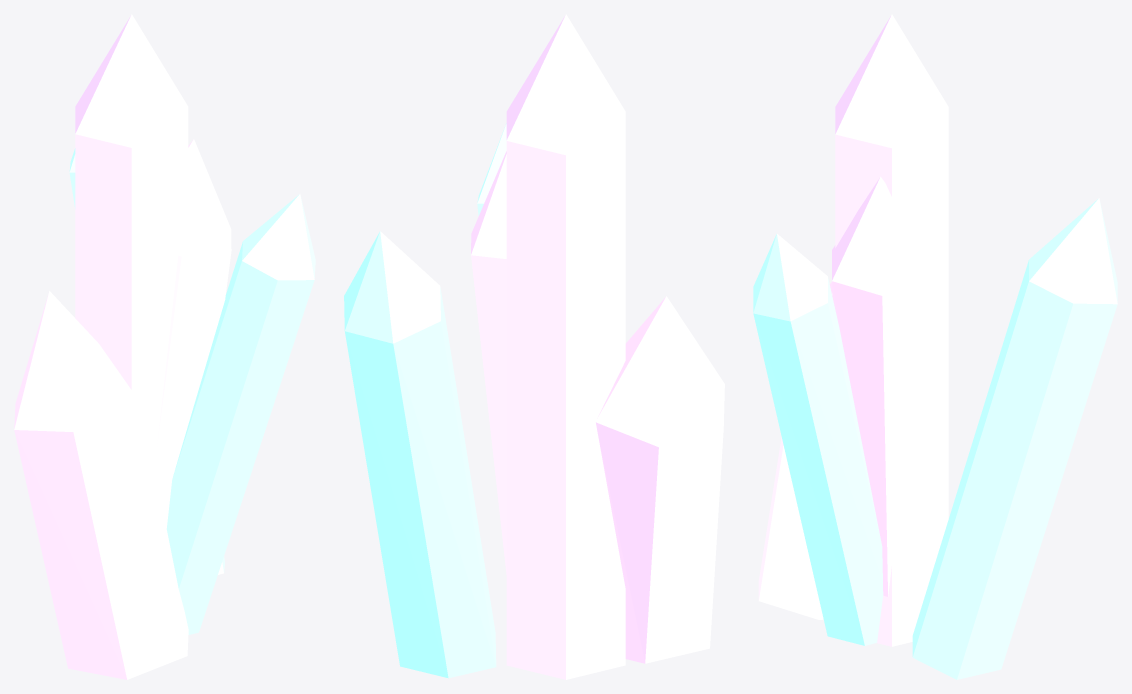
The model's file is crystal_cluster_alive.glb.
3 renders of one model, left to right at view 1: azimuth 30°, elevation 25°; view 2: azimuth 150°, elevation 25°; view 3: azimuth 270°, elevation 25°, orthographic. The views are drawn at different scales.
Parts seen in each view (by area): view 1: crystal_body; view 2: crystal_body; view 3: crystal_body.
Boxes of the visible parts, left/top/right/bottom form: crystal_body: left=14, top=14, right=315, bottom=679; crystal_body: left=344, top=14, right=724, bottom=679; crystal_body: left=753, top=14, right=1117, bottom=679.
Bounding box in the file's own units: 0.249 × 0.5383 × 0.2937.
